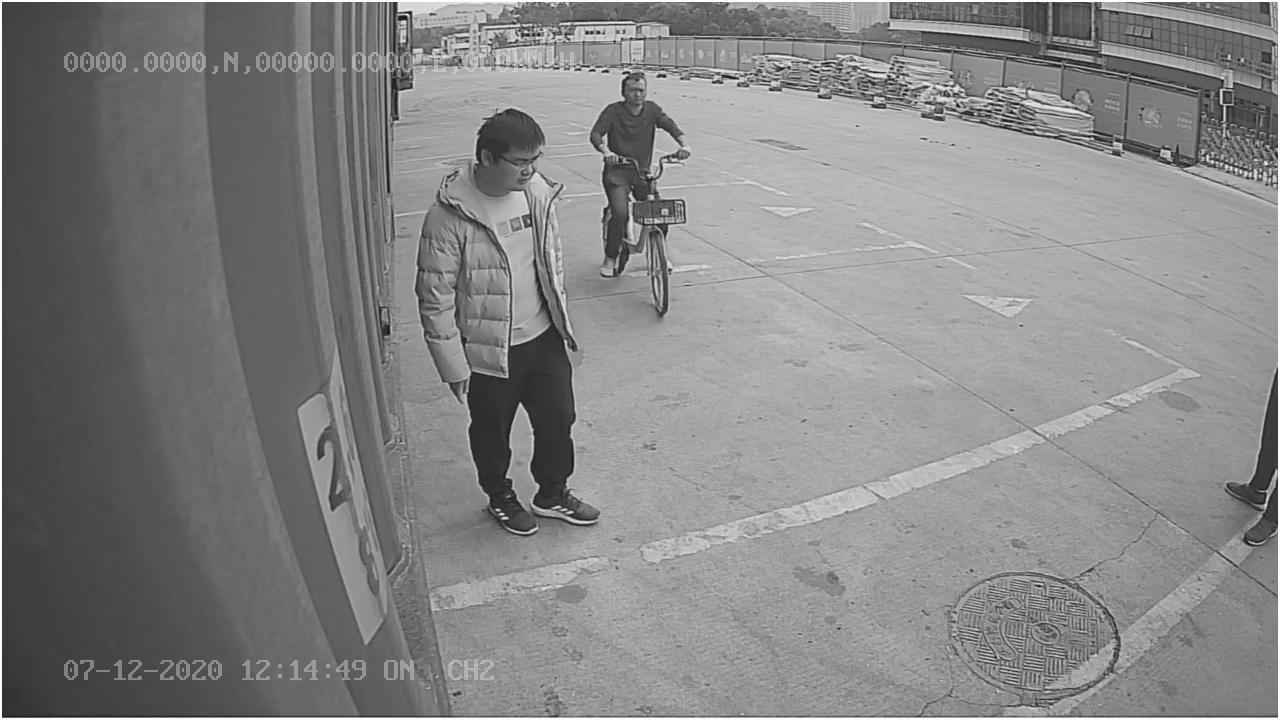person: (415, 105, 603, 533)
